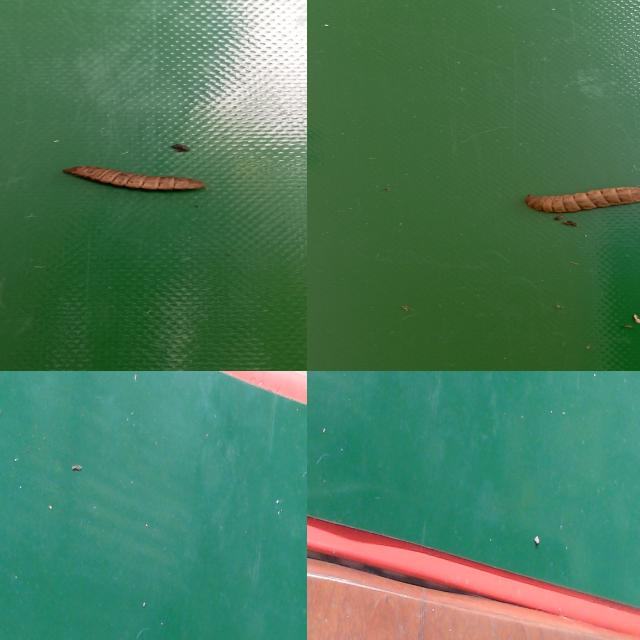Maggot: (61, 167, 205, 195), (524, 187, 640, 218)
